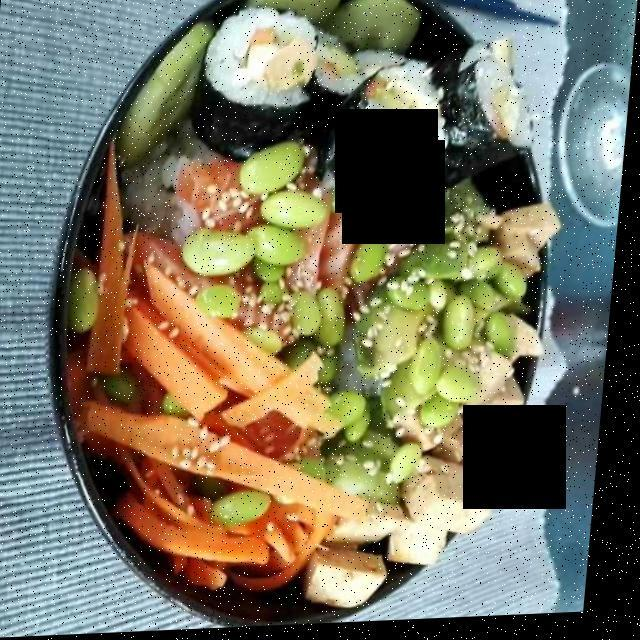carrot: (105, 158, 329, 600)
cucumber: (113, 0, 427, 163)
rice: (114, 128, 226, 271)
salmon: (155, 154, 435, 472)
sesame-seeds: (131, 152, 500, 527)
sushi: (177, 6, 551, 173)
tofu: (300, 194, 559, 619)
